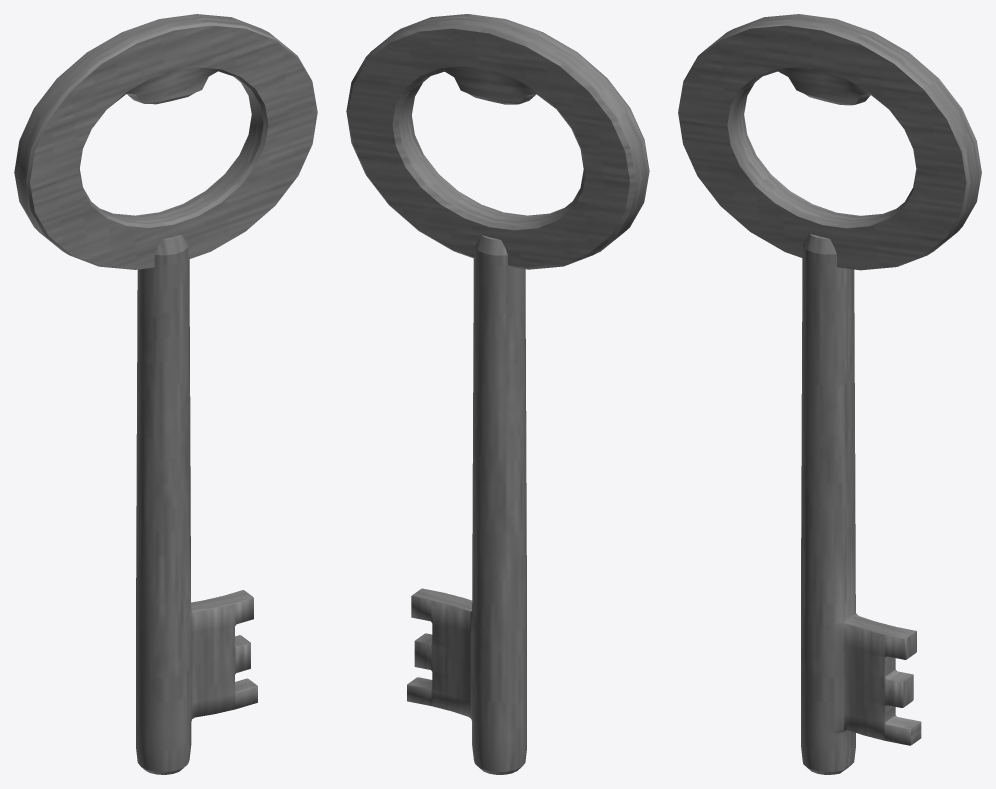
File: Key.obj
3 views of the same model, side by side, from view 1: azimuth 30°, elevation 25°; view 2: azimuth 150°, elevation 25°; view 3: azimuth 330°, elevation 25° (orthographic).
Parts seen in each view (by area): view 1: Key; view 2: Key; view 3: Key.
Boxes of the visible parts, bbox=[...] form: Key: bbox=[14, 14, 317, 774]; Key: bbox=[346, 14, 649, 774]; Key: bbox=[678, 14, 981, 774].
Size of the model in its own units: 0.1278 by 0.3102 by 0.0207.
